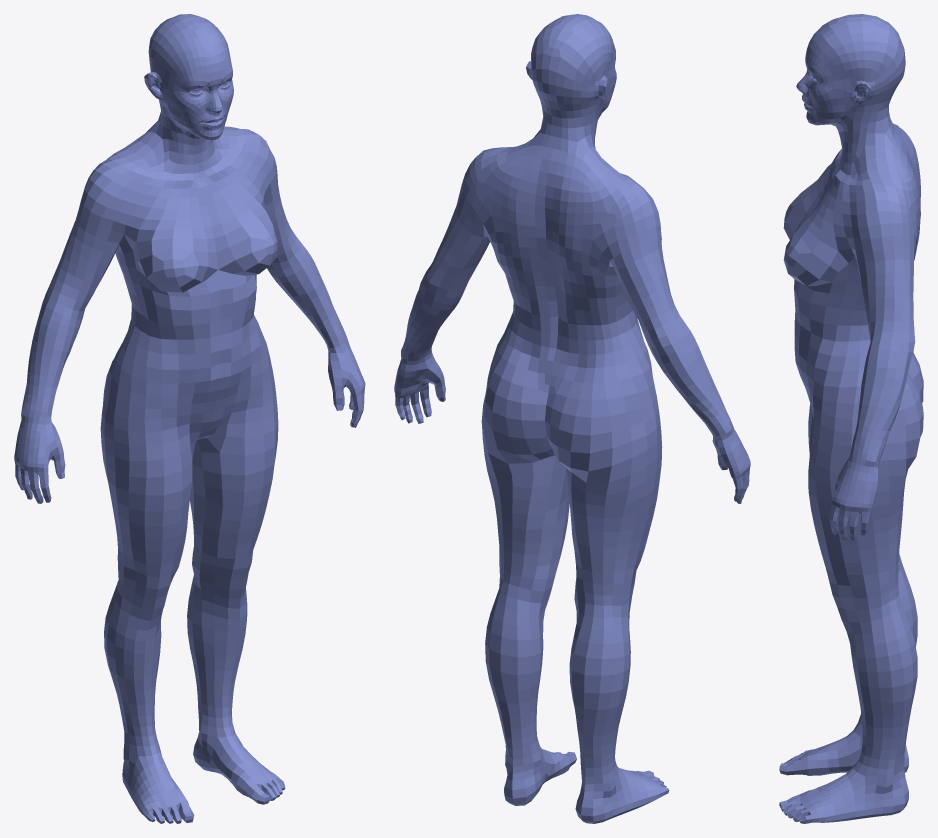
The model's file is SM_Hero.fbx.
The picture shows the model from 3 angles, left to right: view 1: azimuth 30°, elevation 25°; view 2: azimuth 150°, elevation 25°; view 3: azimuth 270°, elevation 25°; orthographic projection.
Visible parts, largest first — view 1: SM_Hero; view 2: SM_Hero; view 3: SM_Hero.
Part boxes in pixels (box(x1,y1,x2,y2)): SM_Hero: box(14, 14, 365, 823); SM_Hero: box(394, 14, 750, 823); SM_Hero: box(779, 14, 923, 823).
Size of the model in its own units: 291 by 625 by 105.
